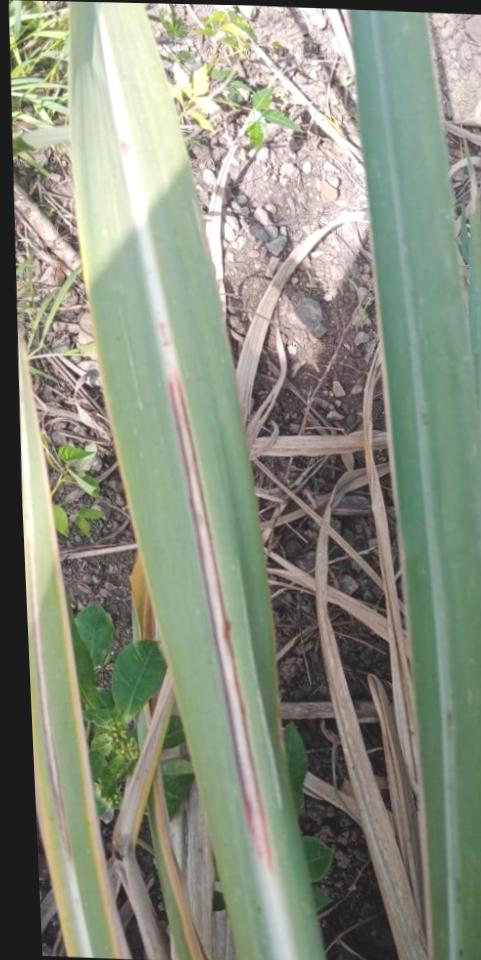RedRot: (167, 368, 272, 877)
